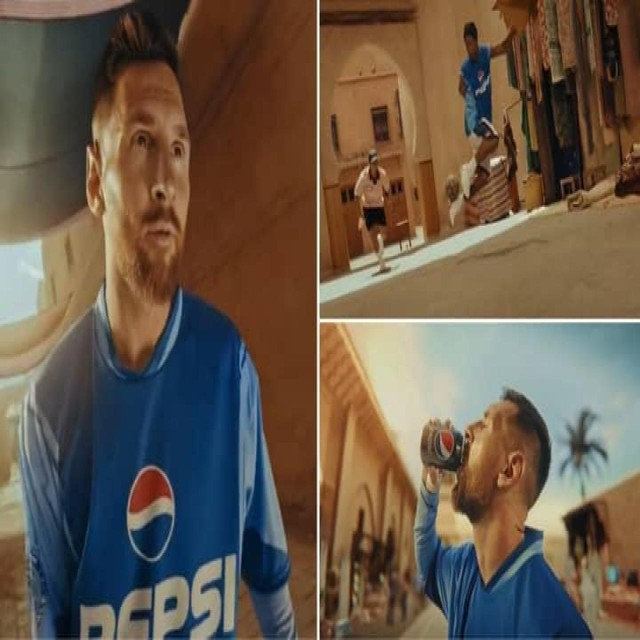pepsi: (125, 465, 177, 564), (434, 425, 458, 463)
